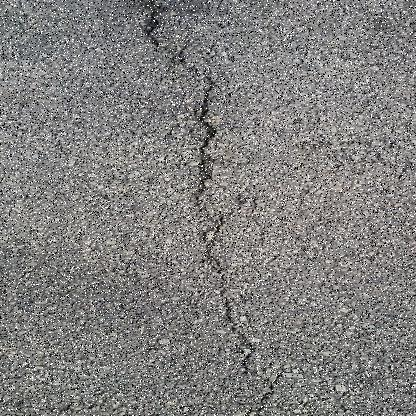Cracks: (130, 0, 262, 361)
